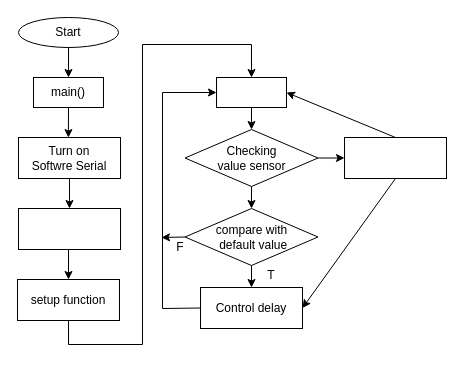
The diagram is 464 pixels wide and 370 high, and some of its shapes have lost their labels. Here are the shapes that lost their labels. From the top down, the centre of each, then its label:
At pixel 251 92: "loop()".
At pixel 395 157: "send, receive data".
At pixel 69 229: "Declare: Sensor, Actuator".
